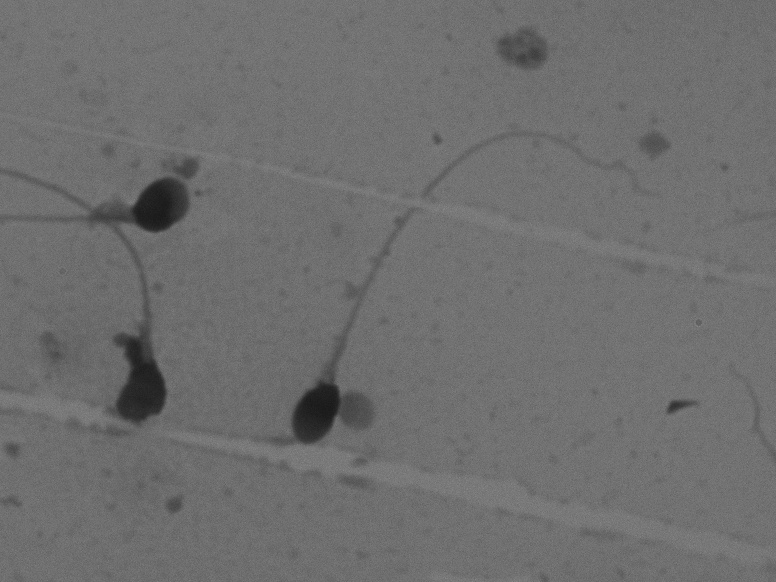Abnormal: (263, 67, 673, 482), (3, 156, 194, 441), (18, 128, 220, 277)
